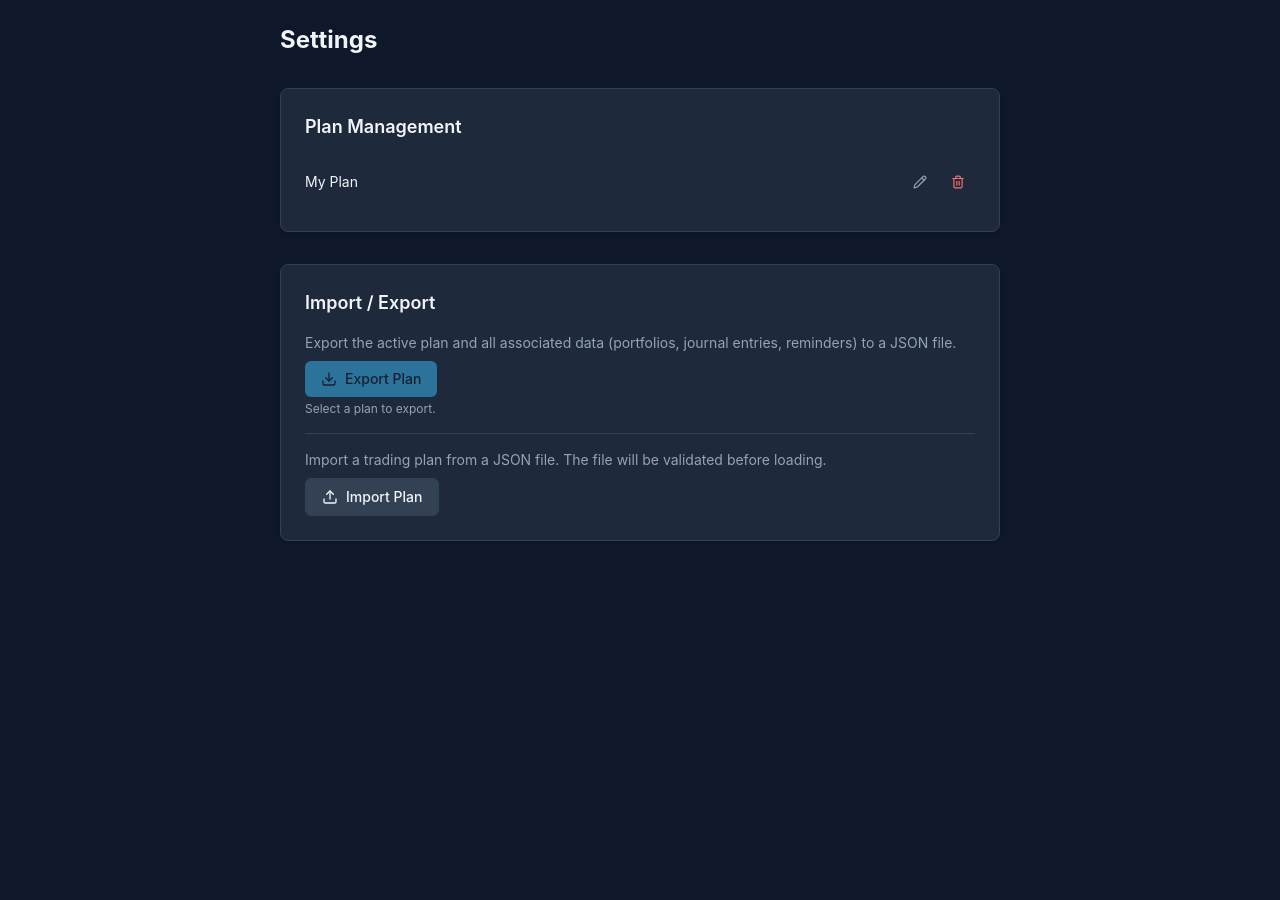
Test: SettingsPage — Plan Management › shows delete confirmation with journal entry warning
Click the button named "delete my plan".
click(958, 182)  # box x1=941 y1=169 x2=975 y2=195
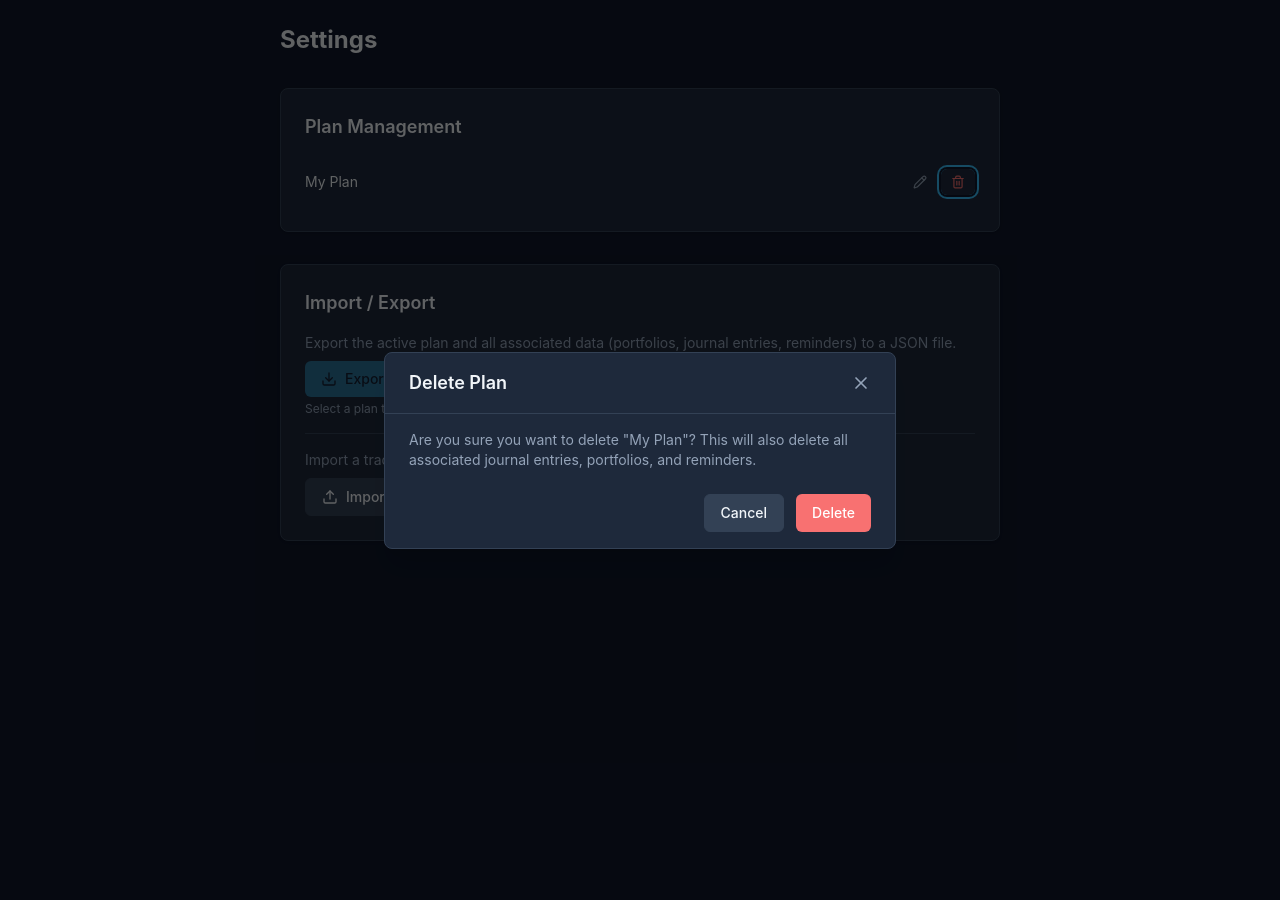
Now the text "also delete all associated journal entries" is shown, box x1=409 y1=430 x2=848 y2=468
